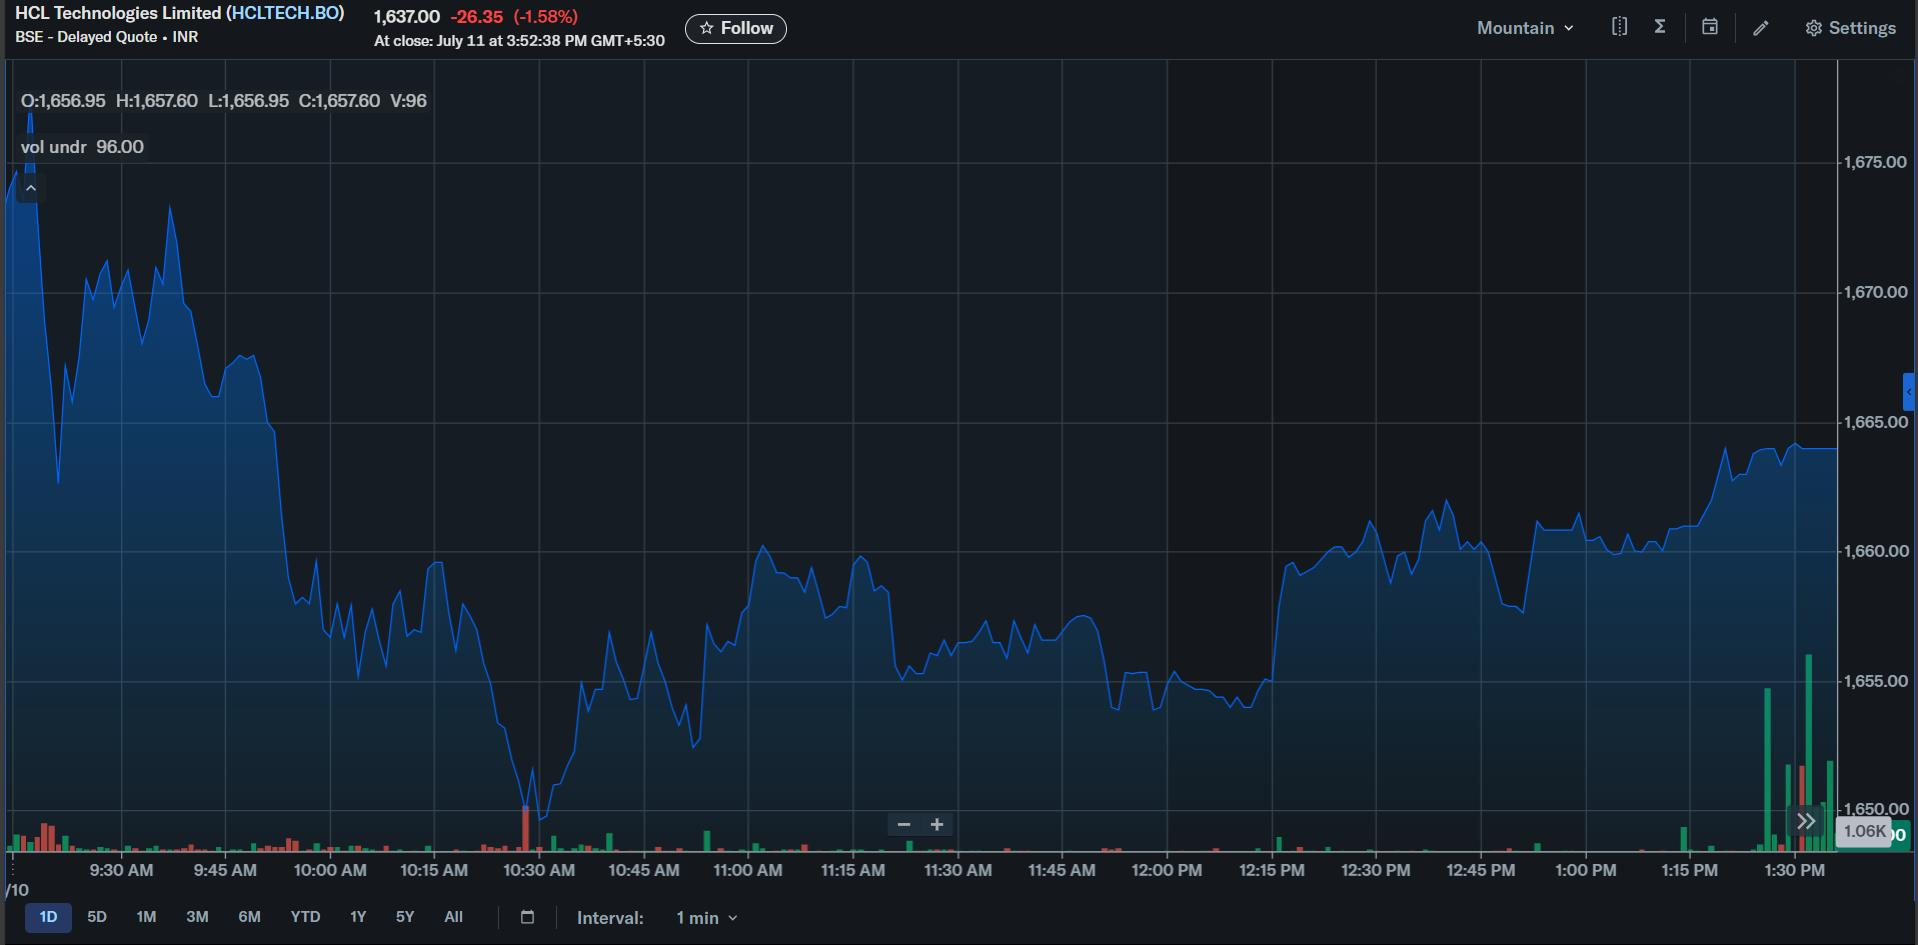Downtrend: (217, 232, 527, 829), (6, 155, 54, 496)
Sideways: (1284, 436, 1843, 656), (1270, 458, 1596, 653)
Uptrend: (614, 505, 782, 776)
